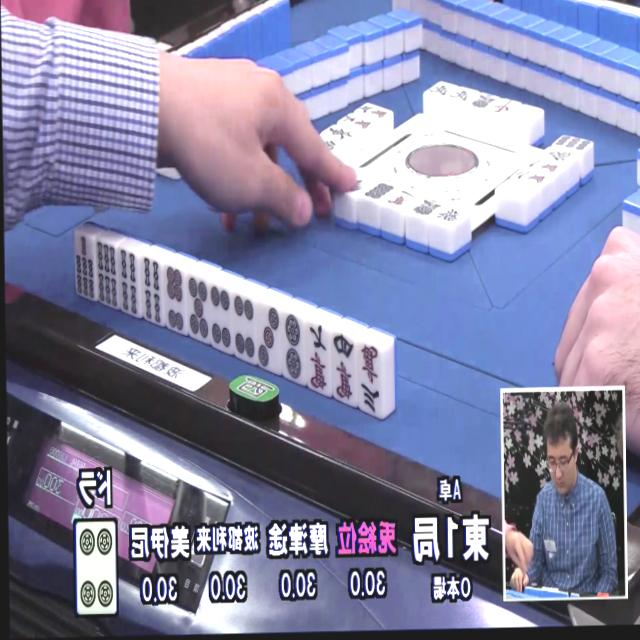m3: (354, 340, 386, 414)
m4: (326, 331, 358, 407)
m7: (302, 320, 332, 395)
s4: (138, 255, 166, 327), (117, 248, 144, 320)
s6: (94, 241, 121, 311)
s7: (73, 234, 97, 303)
t2: (278, 312, 307, 384)
t3: (255, 304, 286, 373)
t4: (71, 520, 117, 617), (231, 292, 260, 366), (207, 283, 235, 354)
t5: (183, 275, 211, 345)
t6: (160, 264, 189, 336)
